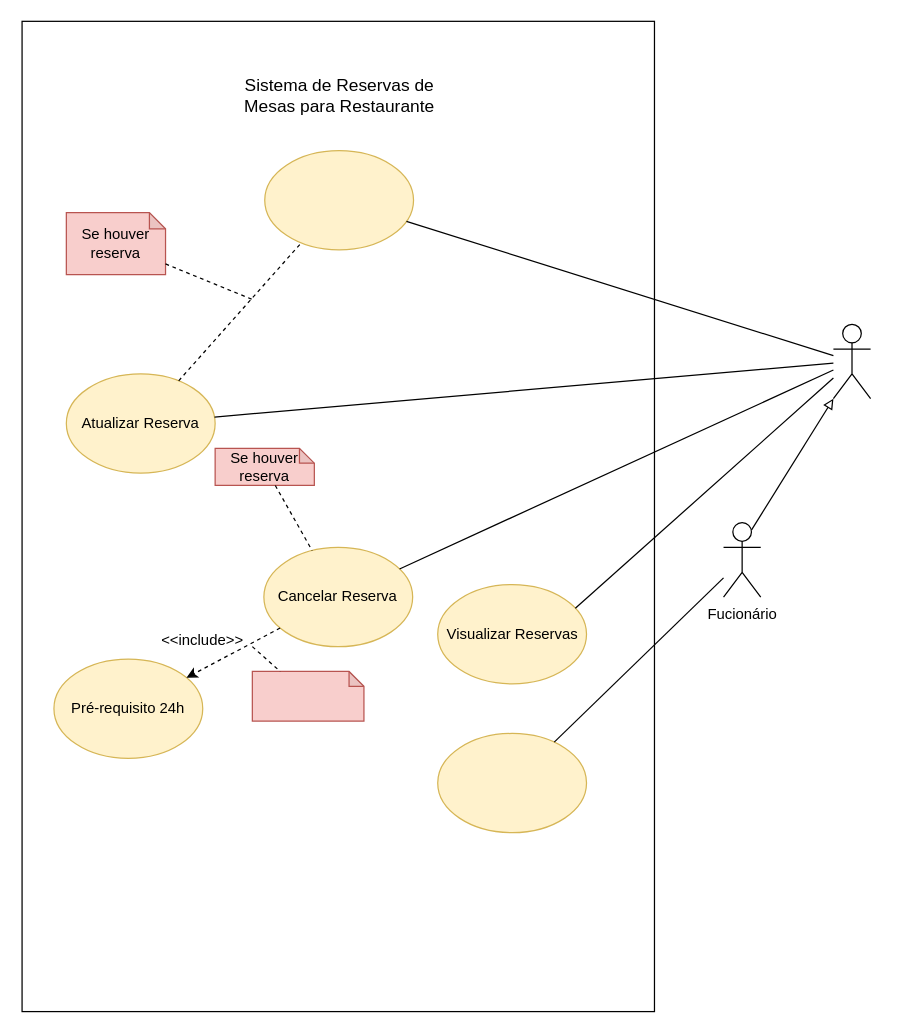
This 897x1034 diagram has some shape labels left out. The shapes that lost their labels are listed below. From the top down, each one's centre as x and y in pixels, then its label:
point 339,199: Fazer Reserva
point 851,361: Cliente
point 307,695: Se for cliente
point 511,782: Gerenciar Mesas
